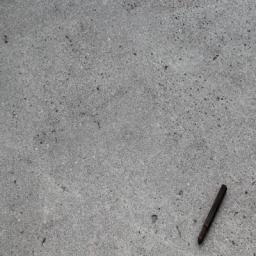FOD: (196, 182, 230, 249)
